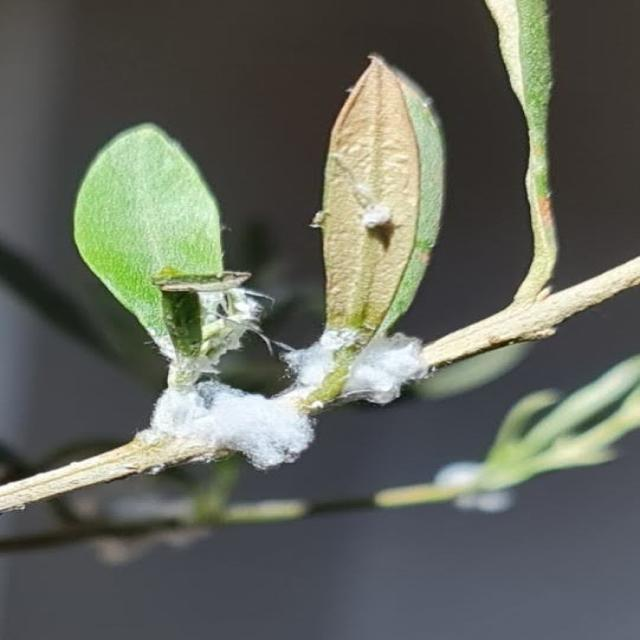Psyllid: (136, 378, 314, 470), (281, 330, 428, 408), (344, 178, 398, 238)
